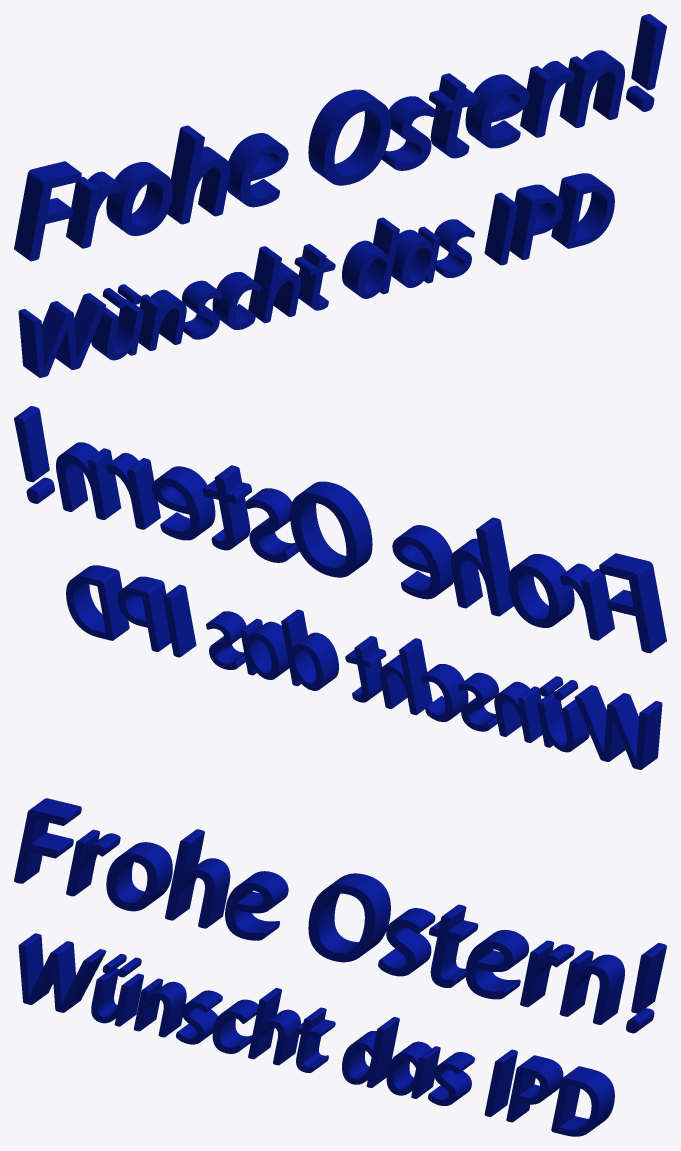
File: Osterbotschaft.fbx
3 views of the same model, one above another, from view 1: azimuth 30°, elevation 25°; view 2: azimuth 150°, elevation 25°; view 3: azimuth 330°, elevation 25° (orthographic).
Parts seen in each view (by area): view 1: node_id45 (×2); view 2: node_id45 (×2); view 3: node_id45 (×2).
Boxes of the visible parts, bbox=[...] form: node_id45 (×2): bbox=[14, 14, 666, 377]; node_id45 (×2): bbox=[14, 406, 666, 769]; node_id45 (×2): bbox=[14, 798, 666, 1136].
Bounding box in the file's own units: 0.3521 × 0.1067 × 0.015.
2 materials, 2 textured.
